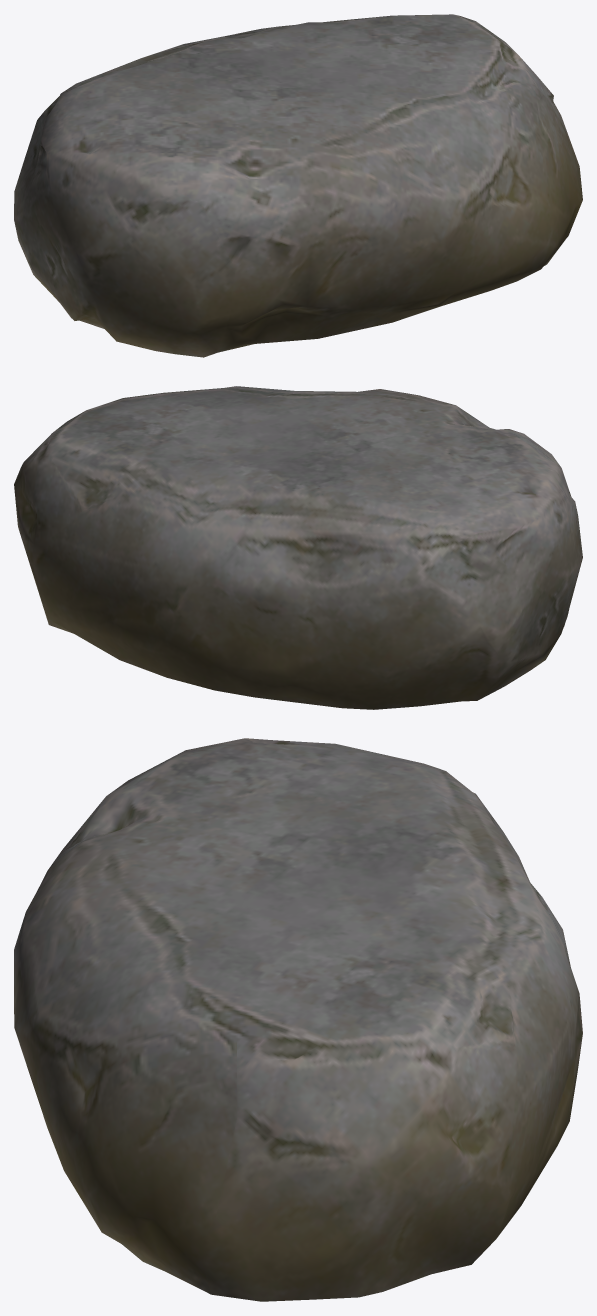
The model's file is Rock4.fbx.
The picture shows the model from 3 angles, top to bottom: view 1: azimuth 30°, elevation 25°; view 2: azimuth 150°, elevation 25°; view 3: azimuth 270°, elevation 25°; orthographic projection. The views are drawn at different scales.
Parts seen in each view (by area): view 1: SM_cmn_mount_GardenRock_01d; view 2: SM_cmn_mount_GardenRock_01d; view 3: SM_cmn_mount_GardenRock_01d.
Boxes of the visible parts, left/top/right/bottom form: SM_cmn_mount_GardenRock_01d: left=14, top=14, right=582, bottom=357; SM_cmn_mount_GardenRock_01d: left=14, top=386, right=582, bottom=709; SM_cmn_mount_GardenRock_01d: left=14, top=738, right=582, bottom=1301.
Size of the model in its own units: 72.34 by 26.12 by 51.34.
